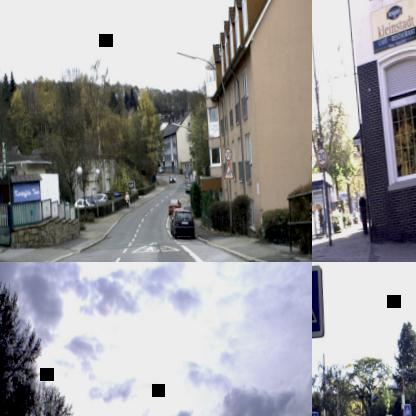SCHOOL CROSSING: (222, 160, 235, 180)
speed limit 30: (315, 146, 328, 168), (222, 146, 232, 160)
